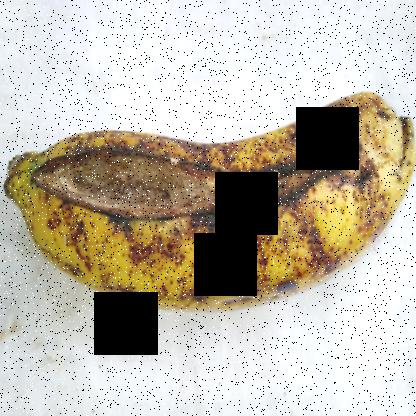rotten: (25, 120, 353, 254)
